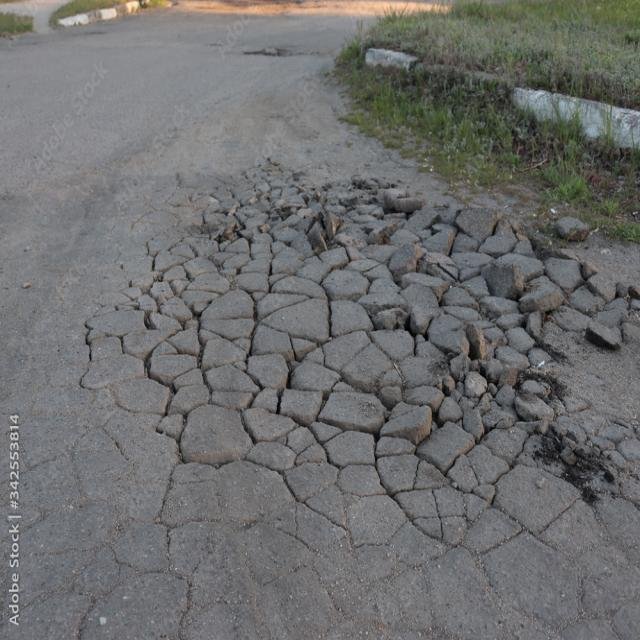Drain Hole: (86, 119, 640, 628)
